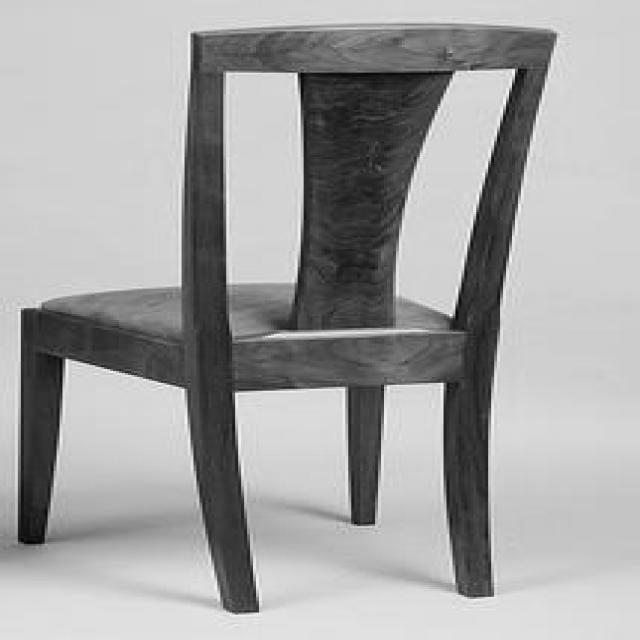chair: (22, 18, 556, 612)
